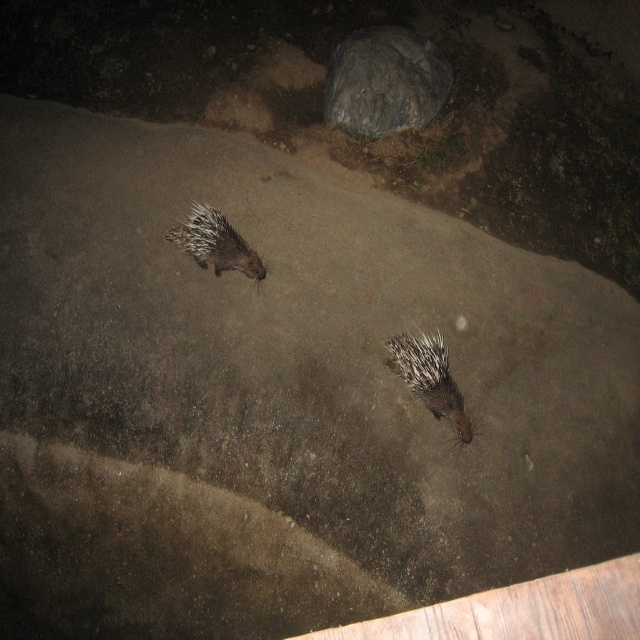Hedgehog: (381, 321, 492, 461), (163, 198, 278, 297)
